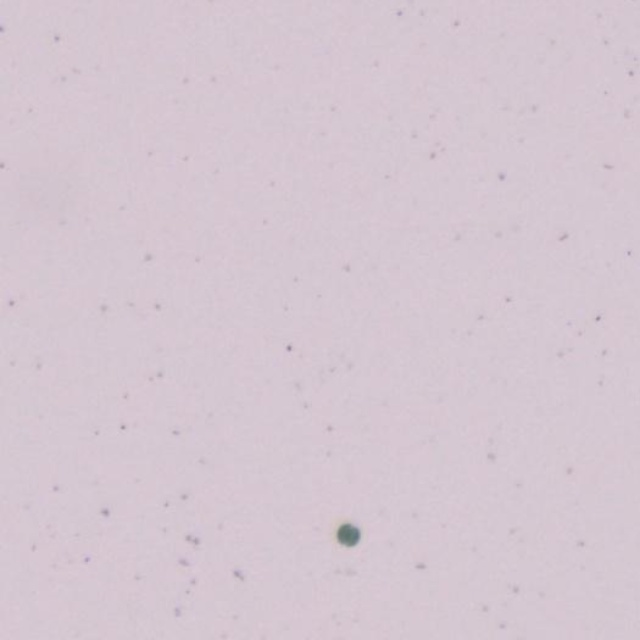non_viable: (336, 523, 360, 546)
